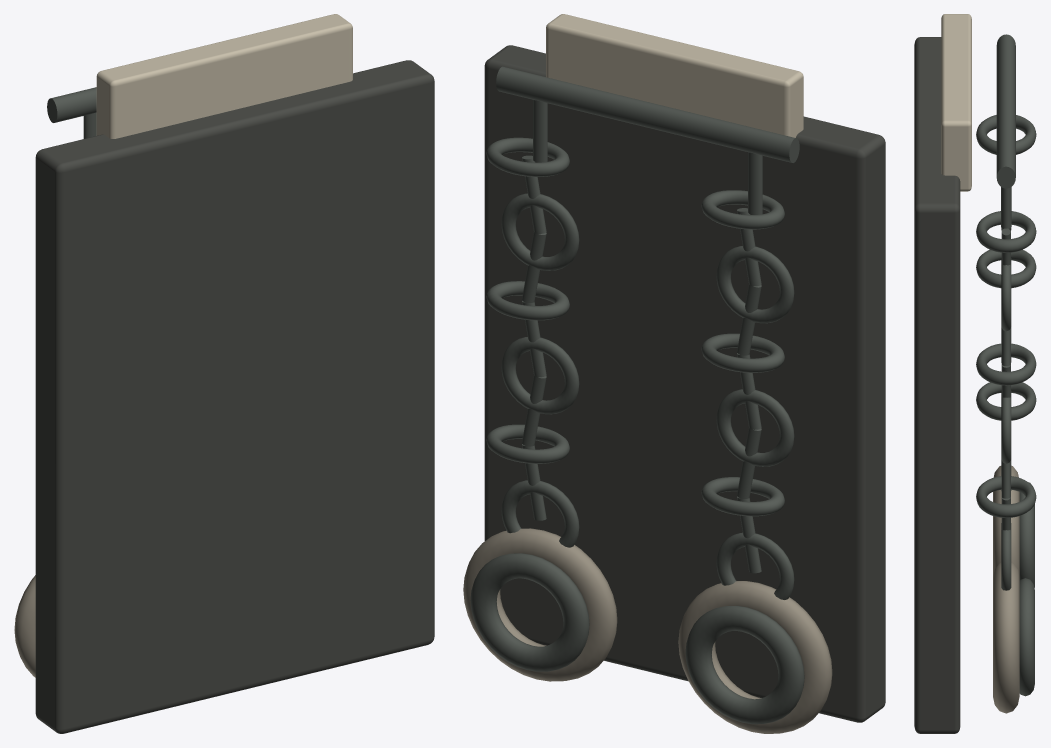
The model's file is detail_wall_chains.glb.
The picture shows the model from 3 angles, left to right: view 1: azimuth 30°, elevation 25°; view 2: azimuth 150°, elevation 25°; view 3: azimuth 270°, elevation 25°; orthographic projection. The views are drawn at different scales.
Visible parts, largest first — view 1: stone, wood, metal; view 2: stone, metal, wood; view 3: stone, metal, wood.
Boxes of the visible parts, bbox=[...] form: stone: bbox=[35, 60, 434, 733]; wood: bbox=[14, 14, 352, 677]; metal: bbox=[47, 87, 96, 138]; stone: bbox=[484, 45, 885, 722]; metal: bbox=[470, 66, 804, 724]; wood: bbox=[463, 14, 832, 733]; stone: bbox=[914, 37, 960, 733]; metal: bbox=[976, 34, 1036, 696]; wood: bbox=[941, 14, 1019, 713].
Size of the model in its own units: 1 by 1.6 by 0.3.
